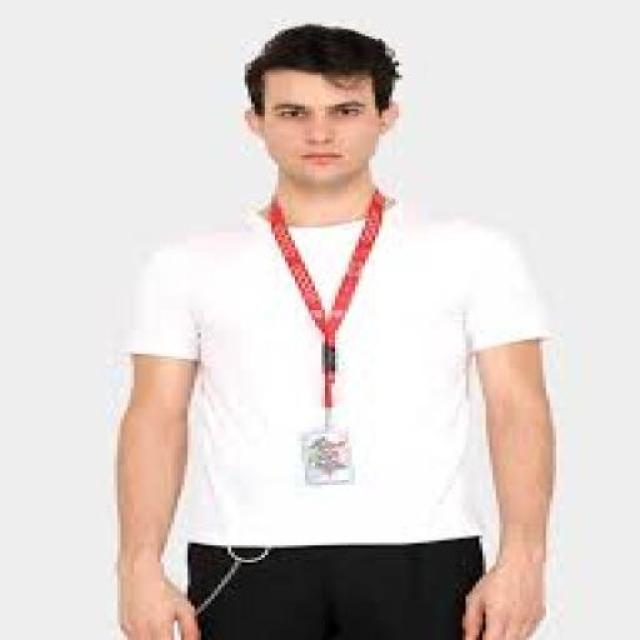id_card: (266, 188, 386, 488)
